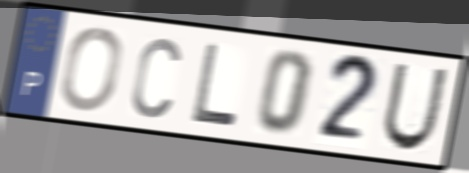0: (255, 47, 316, 139)
2: (312, 52, 384, 153)
C: (128, 34, 184, 121)
L: (189, 40, 241, 130)
O: (57, 25, 126, 114)
U: (379, 60, 451, 154)
